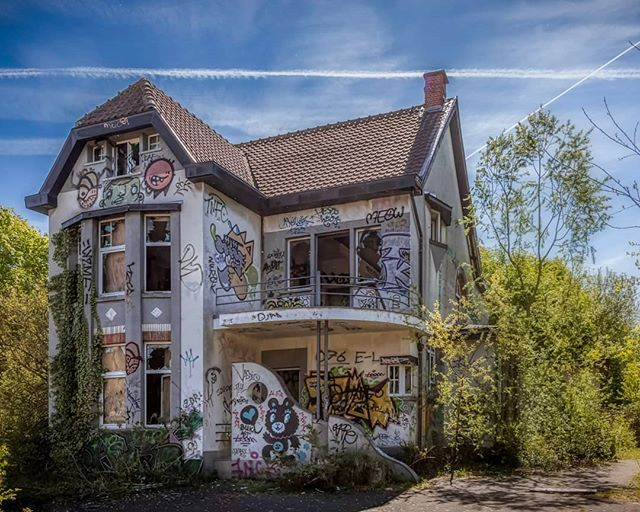building: (50, 86, 484, 471)
graffiti: (219, 378, 339, 478), (56, 146, 185, 210), (198, 212, 265, 307)
sky: (1, 1, 624, 224)
vegetation: (472, 130, 640, 459)
window: (74, 201, 183, 298), (73, 334, 182, 431), (281, 226, 388, 300)
